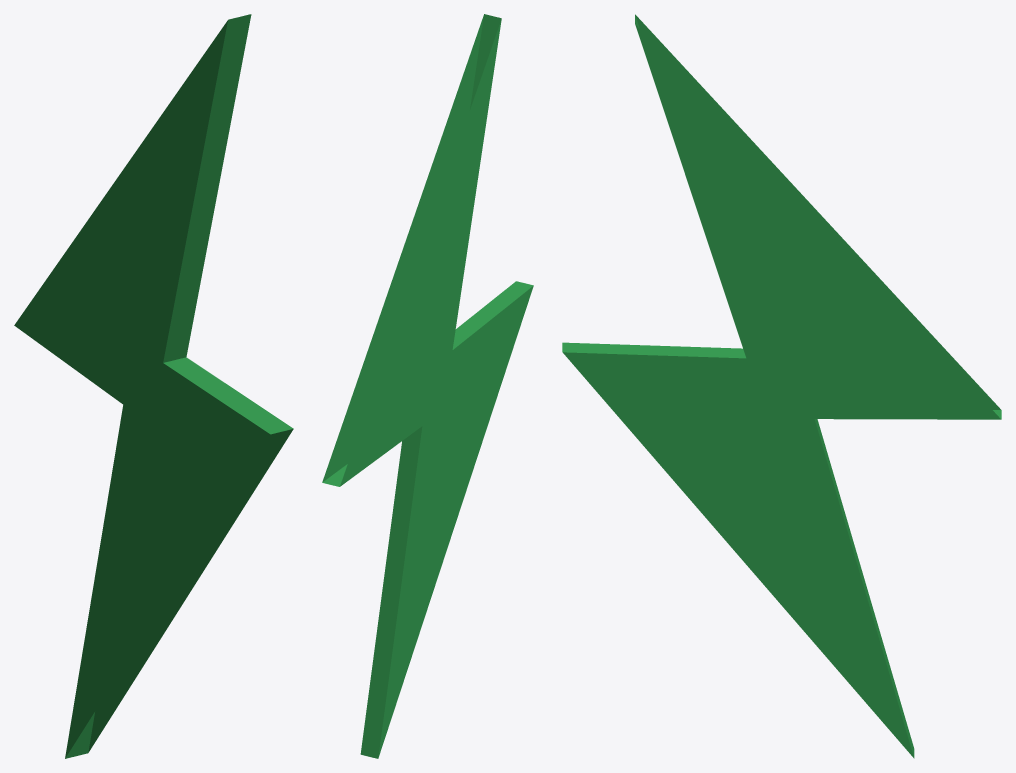
The model's file is greenbolt1.glb.
3 renders of one model, left to right at view 1: azimuth 30°, elevation 25°; view 2: azimuth 150°, elevation 25°; view 3: azimuth 270°, elevation 25°, orthographic. The views are drawn at different scales.
Parts seen in each view (by area): view 1: Cube.001; view 2: Cube.001; view 3: Cube.001.
Boxes of the visible parts, left/top/right/bottom form: Cube.001: left=14, top=14, right=293, bottom=758; Cube.001: left=322, top=14, right=533, bottom=758; Cube.001: left=562, top=14, right=1001, bottom=758.
Size of the model in its own units: 0.1965 by 6.91 by 3.74.
